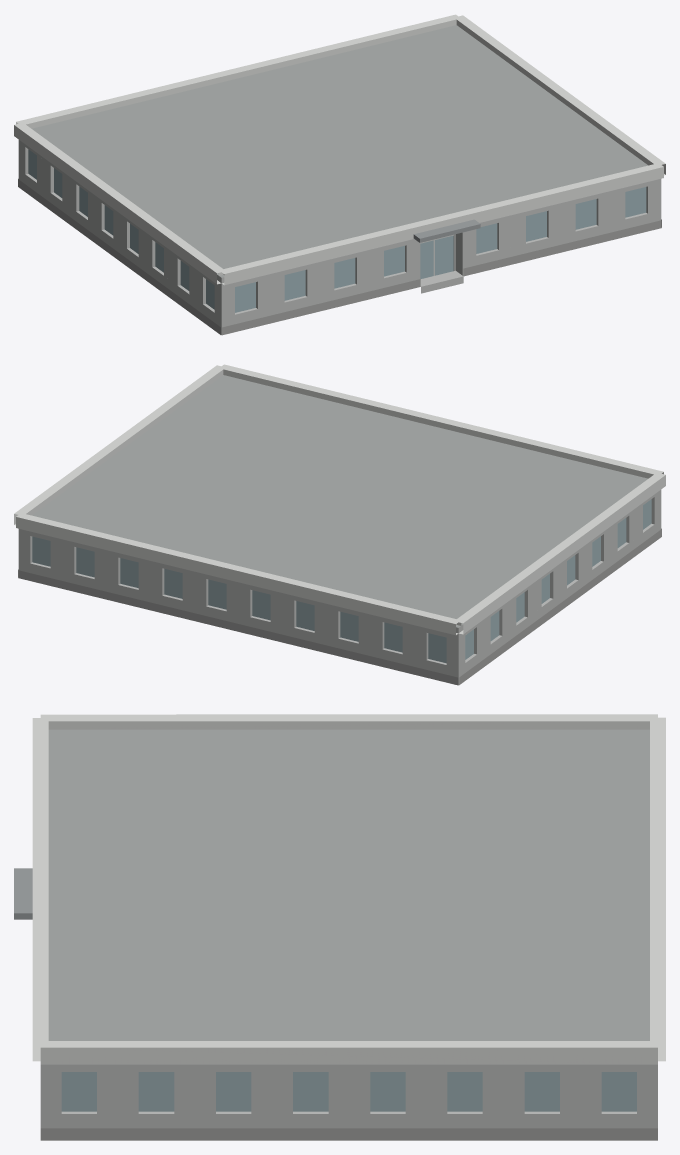
3 renders of one model, top to bottom at view 1: azimuth 30°, elevation 25°; view 2: azimuth 150°, elevation 25°; view 3: azimuth 270°, elevation 25°, orthographic. The views are drawn at different scales.
Visible parts, largest first — view 1: b115951803__roof, b115951803__wall, b115951803__trim, b115951803__glass, b115951803__base, b115951803__canopy, b115951803__entranceThreshold_0; view 2: b115951803__roof, b115951803__wall, b115951803__trim, b115951803__glass, b115951803__base; view 3: b115951803__roof, b115951803__trim, b115951803__wall, b115951803__glass, b115951803__base, b115951803__canopy.
Boxes of the visible parts, x1,y1,x2,y2 form: b115951803__roof: (32, 25, 647, 335); b115951803__wall: (18, 140, 661, 334); b115951803__trim: (14, 14, 665, 285); b115951803__glass: (28, 149, 646, 312); b115951803__base: (18, 178, 661, 335); b115951803__canopy: (413, 219, 480, 242); b115951803__entranceThreshold_0: (420, 270, 463, 293); b115951803__roof: (32, 375, 647, 685); b115951803__wall: (18, 490, 661, 684); b115951803__trim: (14, 364, 665, 635); b115951803__glass: (32, 499, 651, 663); b115951803__base: (18, 528, 661, 685); b115951803__roof: (48, 729, 649, 1040); b115951803__trim: (32, 714, 665, 1064); b115951803__wall: (40, 1064, 657, 1128); b115951803__glass: (61, 1072, 636, 1111); b115951803__base: (40, 1128, 657, 1140); b115951803__canopy: (14, 868, 32, 919).
Size of the model in its own units: 29.5 by 4.35 by 24.38.
